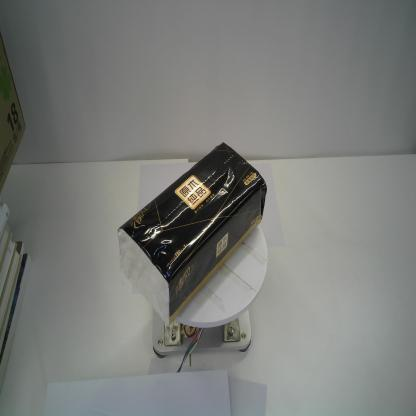Tissue: (116, 141, 268, 329)
